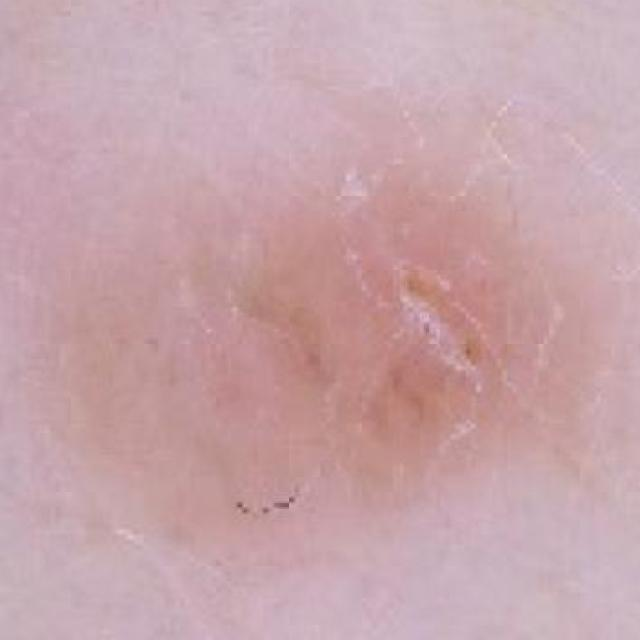BCC: (7, 39, 640, 640)
